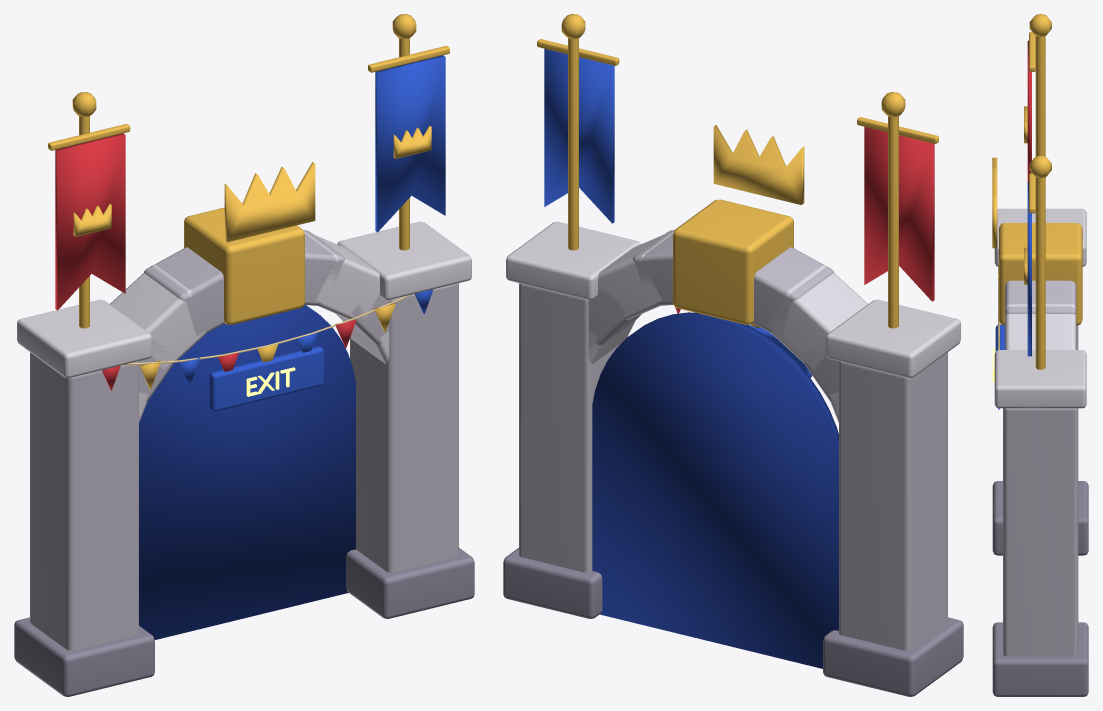
The model's file is faire_portal_arch.glb.
3 views of the same model, side by side, from view 1: azimuth 30°, elevation 25°; view 2: azimuth 150°, elevation 25°; view 3: azimuth 270°, elevation 25° (orthographic). The views are drawn at different scales.
Visible parts, largest first — view 1: PortalArch; view 2: PortalArch; view 3: PortalArch.
Boxes of the visible parts, bbox=[...] form: PortalArch: bbox=[14, 14, 474, 696]; PortalArch: bbox=[503, 14, 963, 696]; PortalArch: bbox=[992, 14, 1088, 696].
Size of the model in its own units: 5.15 by 6.89 by 1.15.
